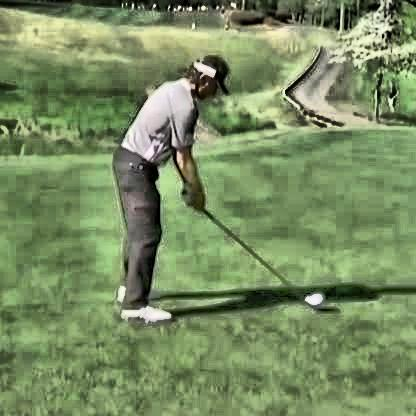golfball: (305, 295, 323, 305)
